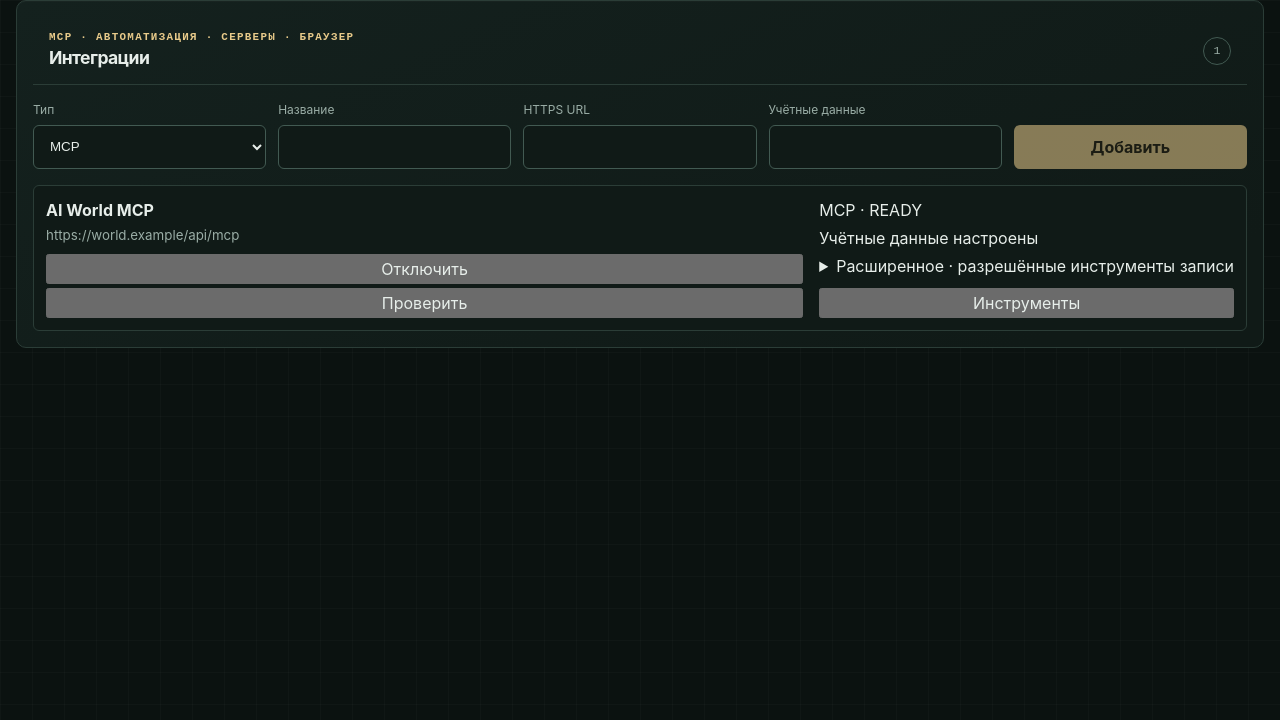
Test: IntegrationPanel › runs the predefined action for a ready Integration and renders bounded evidence
Click the button "Инструменты" at (1027, 303), box 819,288 -> 1234,318
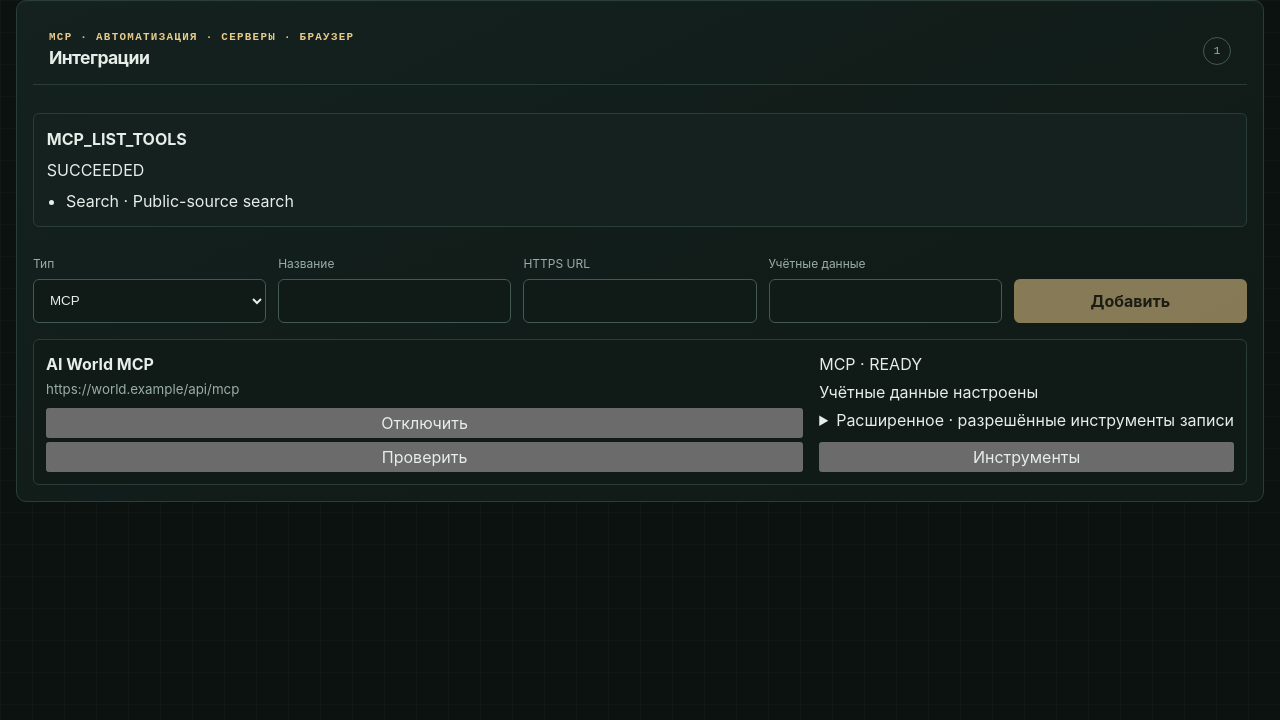
Result: the list item "Search · Public-source search" is shown at 66,191 -> 294,211
